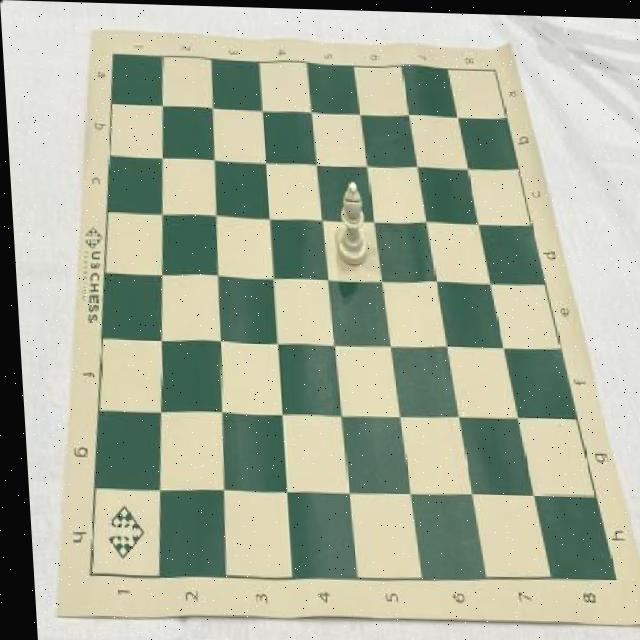black-rook: (329, 177, 367, 266)
